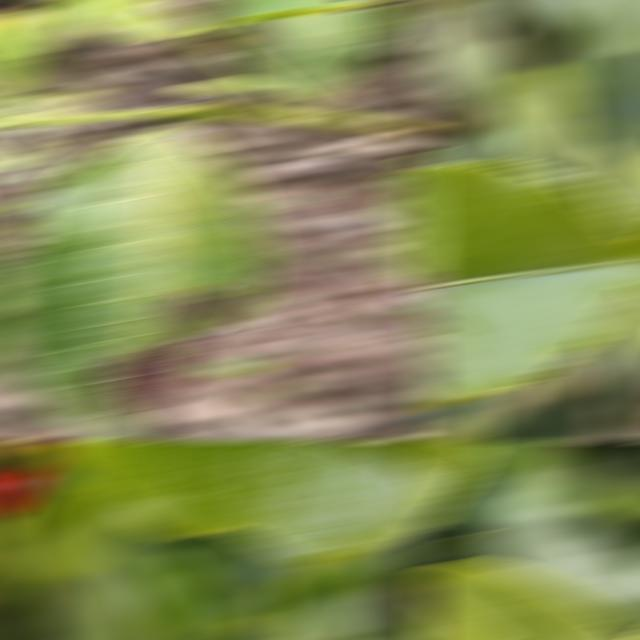Leaf: (0, 102, 275, 440), (418, 164, 640, 408), (41, 442, 438, 562), (476, 517, 640, 621), (418, 562, 640, 638), (243, 9, 398, 104), (434, 442, 587, 524), (19, 479, 140, 577), (483, 68, 586, 178), (262, 559, 394, 638), (122, 551, 228, 638), (551, 2, 631, 110), (384, 152, 438, 303), (418, 8, 499, 104), (197, 2, 403, 35), (485, 388, 607, 440), (581, 143, 640, 229), (58, 2, 190, 38), (0, 2, 48, 99), (255, 583, 331, 638), (588, 291, 640, 369), (607, 347, 640, 440), (226, 587, 276, 638), (490, 2, 561, 37), (525, 2, 604, 30), (419, 410, 491, 440), (607, 2, 640, 50)
